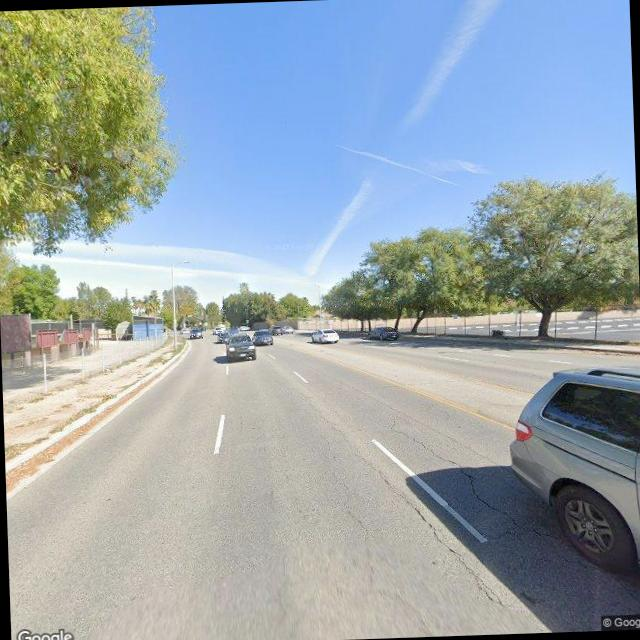pothole: (347, 427, 517, 619), (386, 412, 542, 536), (234, 408, 247, 435)
